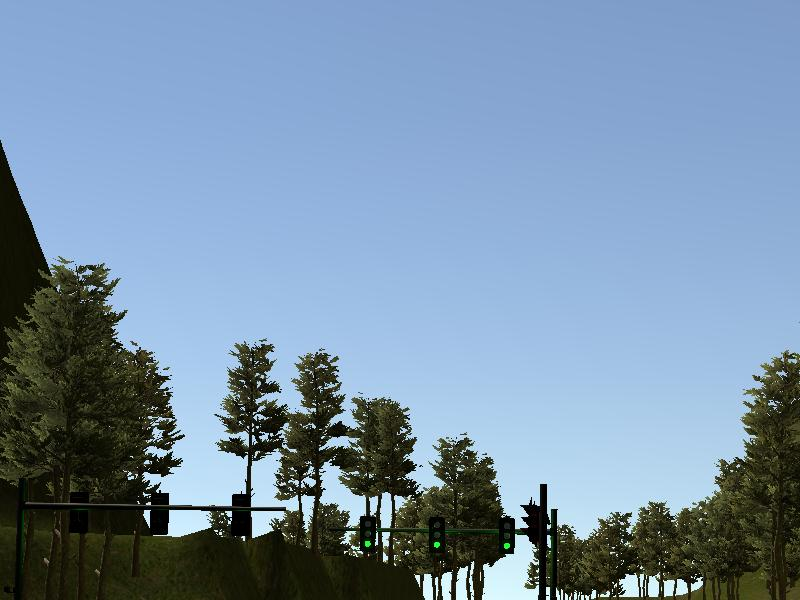Green: (360, 518, 375, 551), (430, 518, 445, 551), (500, 519, 515, 552)
